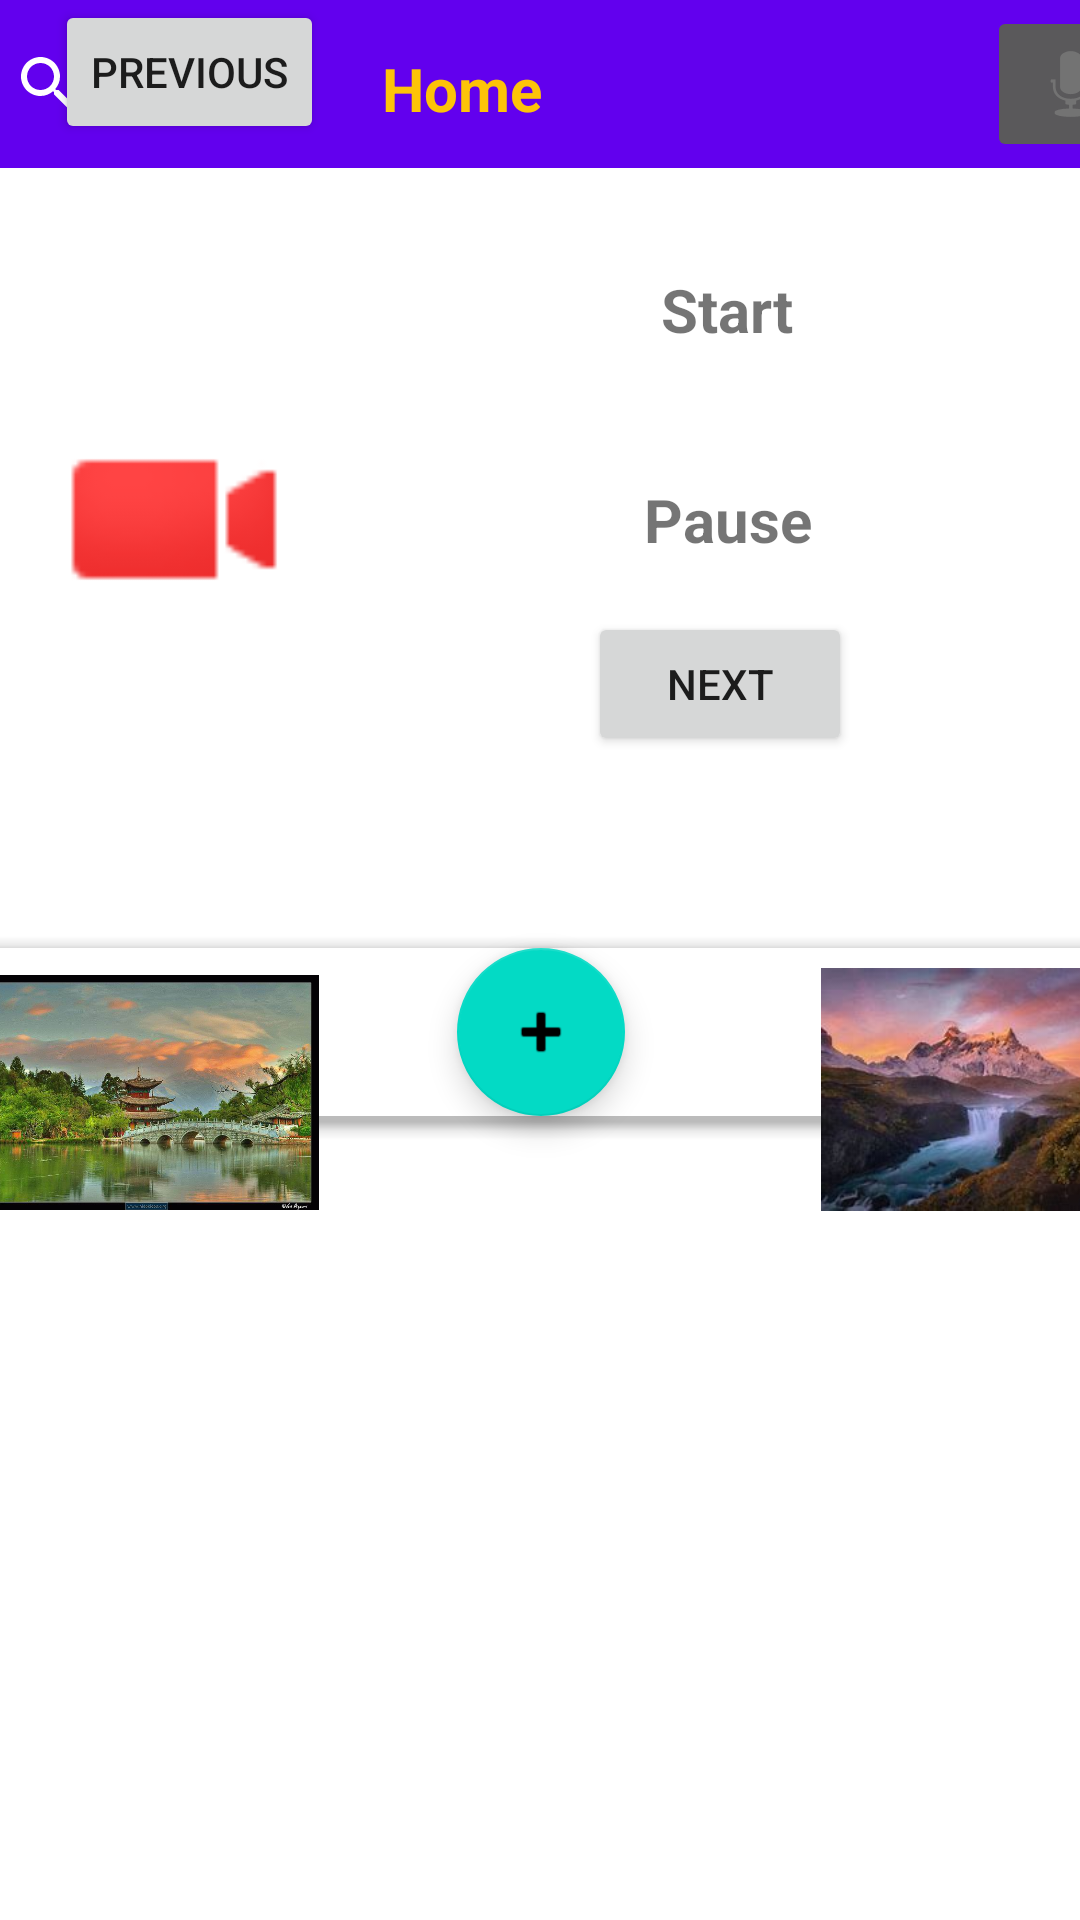

Icons on this 1080*1920 Android screen, each with the point to tap as (x,y):
add: (541,1032)
presence video busy: (174,519)
